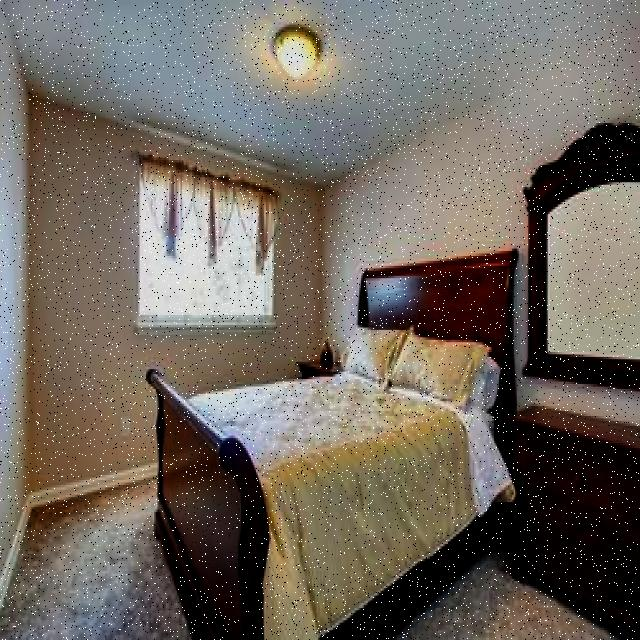bed: (184, 320, 512, 640)
